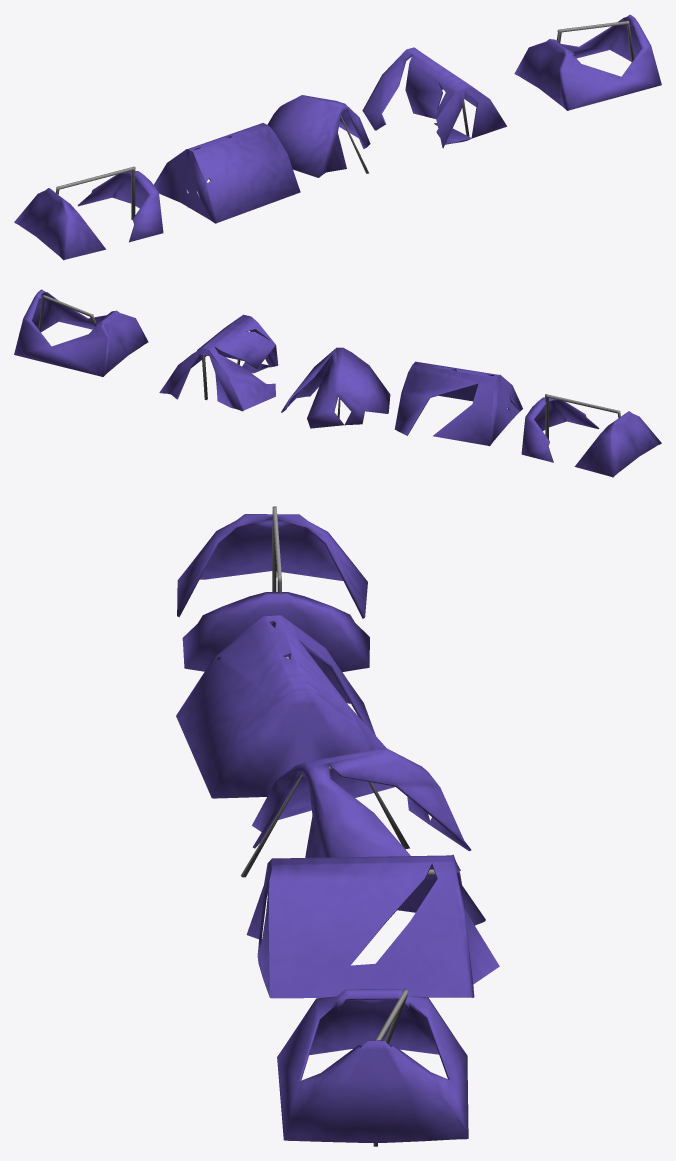
The model's file is DamagedTents_DarkBlue.obj.
3 renders of one model, top to bottom at view 1: azimuth 30°, elevation 25°; view 2: azimuth 150°, elevation 25°; view 3: azimuth 270°, elevation 25°, orthographic. The views are drawn at different scales.
Visible parts, largest first — view 1: DamagedTent_Base.003_Material, DamagedTent_Base_Material, DamagedTent_Base.001_Material, DamagedTent_Base.004_Material, DamagedTent_Base.002_Material, Tent_SupportBar.009_Material.159, Tent_SupportBar.005_Material.159; view 2: DamagedTent_Base.003_Material, DamagedTent_Base_Material, DamagedTent_Base.001_Material, DamagedTent_Base.004_Material, DamagedTent_Base.002_Material, Tent_SupportBar.009_Material.159, Tent_SupportBar.005_Material.159; view 3: DamagedTent_Base.001_Material, DamagedTent_Base_Material, DamagedTent_Base.003_Material, DamagedTent_Base.004_Material, DamagedTent_Base.002_Material, Tent_SupportBar.007_Material.159.
Boxes of the visible parts, x1,y1,x2,y2 form: DamagedTent_Base.003_Material: (154, 123, 300, 223); DamagedTent_Base_Material: (514, 14, 661, 110); DamagedTent_Base.001_Material: (362, 47, 506, 148); DamagedTent_Base.004_Material: (14, 171, 163, 260); DamagedTent_Base.002_Material: (267, 95, 370, 177); Tent_SupportBar.009_Material.159: (56, 166, 135, 219); Tent_SupportBar.005_Material.159: (556, 20, 633, 62); DamagedTent_Base.003_Material: (394, 361, 522, 446); DamagedTent_Base_Material: (14, 289, 148, 376); DamagedTent_Base.001_Material: (159, 314, 278, 411); DamagedTent_Base.004_Material: (521, 397, 661, 477); DamagedTent_Base.002_Material: (281, 347, 390, 428); Tent_SupportBar.009_Material.159: (545, 394, 620, 439); Tent_SupportBar.005_Material.159: (38, 295, 96, 331); DamagedTent_Base.001_Material: (246, 854, 499, 998); DamagedTent_Base_Material: (277, 989, 468, 1142); DamagedTent_Base.003_Material: (176, 615, 385, 798); DamagedTent_Base.004_Material: (177, 514, 369, 671); DamagedTent_Base.002_Material: (252, 747, 471, 857); Tent_SupportBar.007_Material.159: (240, 766, 409, 877).
Size of the model in its own units: 14.53 by 1.29 by 3.5.
